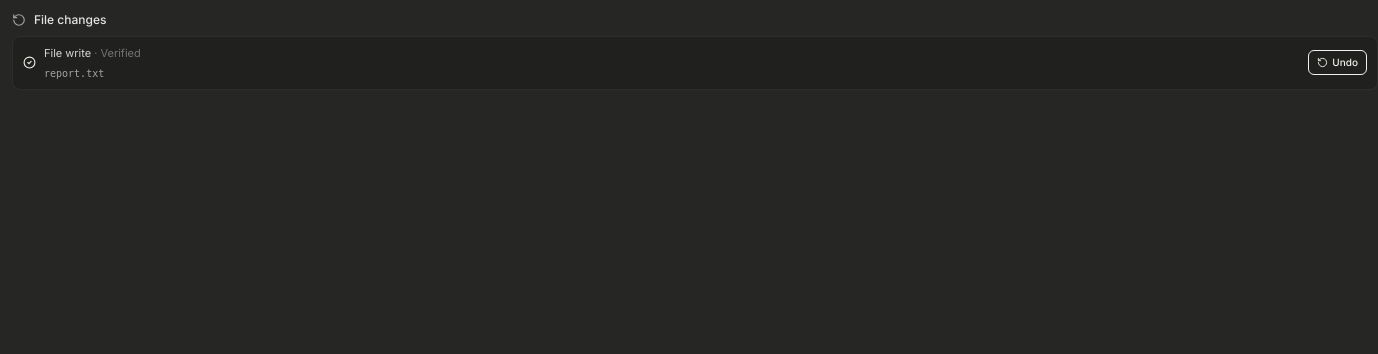
Test: RecoveryPanel Undo controls › requires an available capability and a keyboard-accessible confirmation before Undo
Check: the text "· Verified" is shown once, box [94,46,141,60]
Click the button "Undo" at (1338, 63), box [1308,50,1367,75]
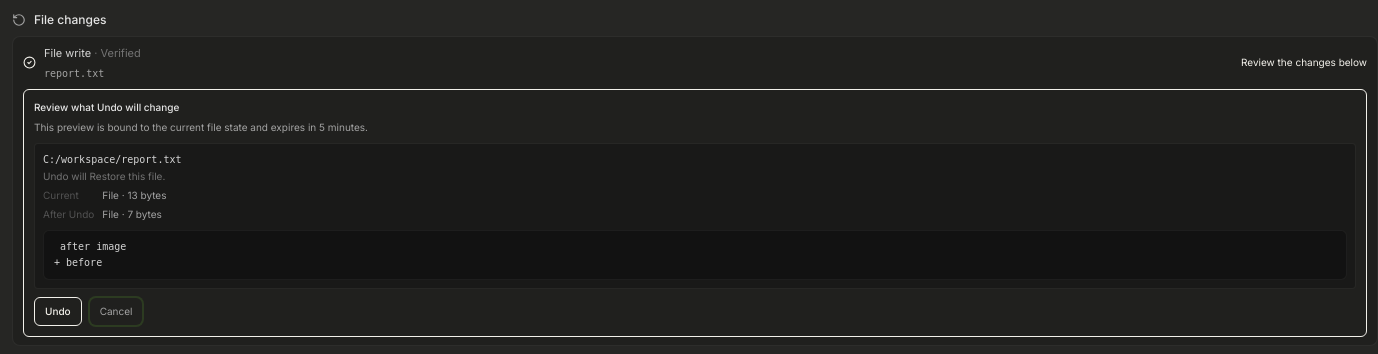
Check: the text "C:/workspace/report.txt" is shown, box [43,154,182,165]
Check: the element named "Undo text diff for C:/workspace/report.txt" shows "+ before", box [54,257,102,268]
Check: the text "expires in 5 minutes" is shown, box [34,120,368,132]
Click the button "Cancel" at (116, 312), box [90,298,142,325]
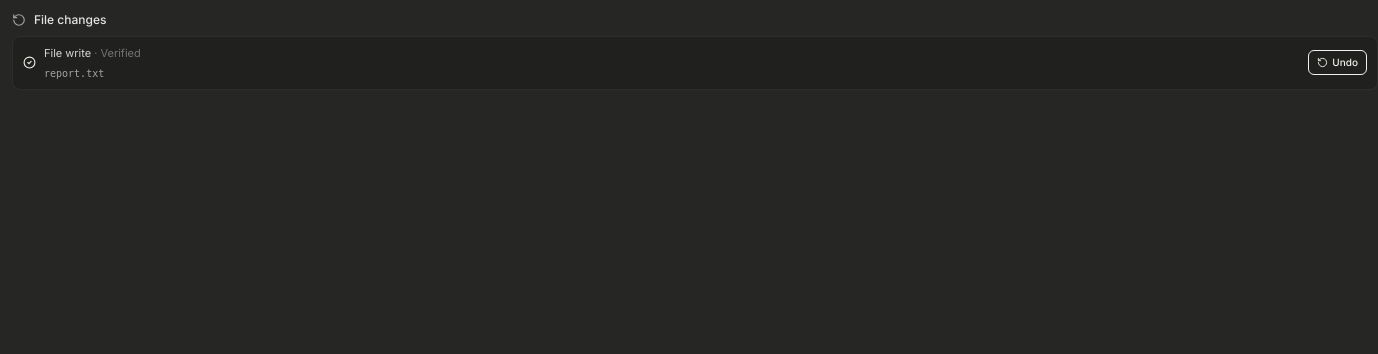
Click the button "Undo" at (1338, 63), box [1308,50,1367,75]
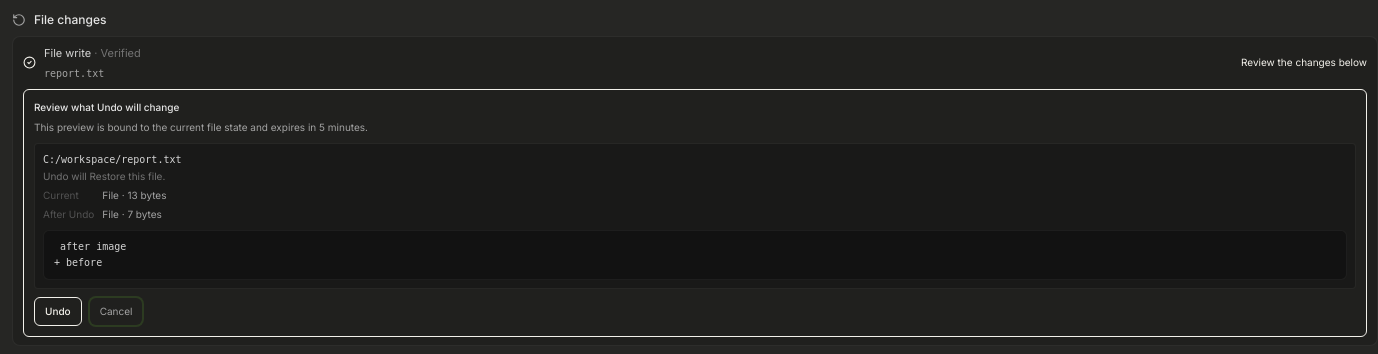
Check: the element named "Undo confirmation preview" is shown
Click the button "Undo" at (58, 312), box [34,297,82,326]
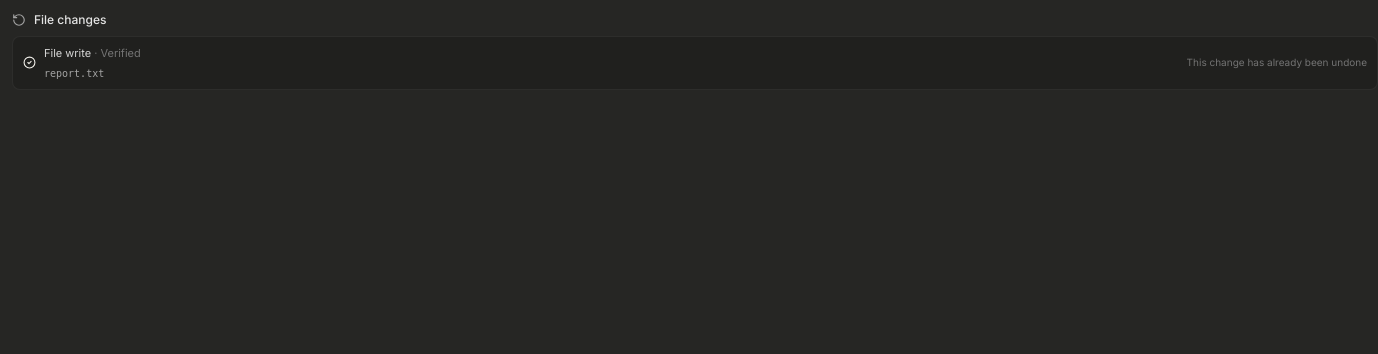
Check: the text "This change has already been undone" is shown, box [1187,55,1367,70]
